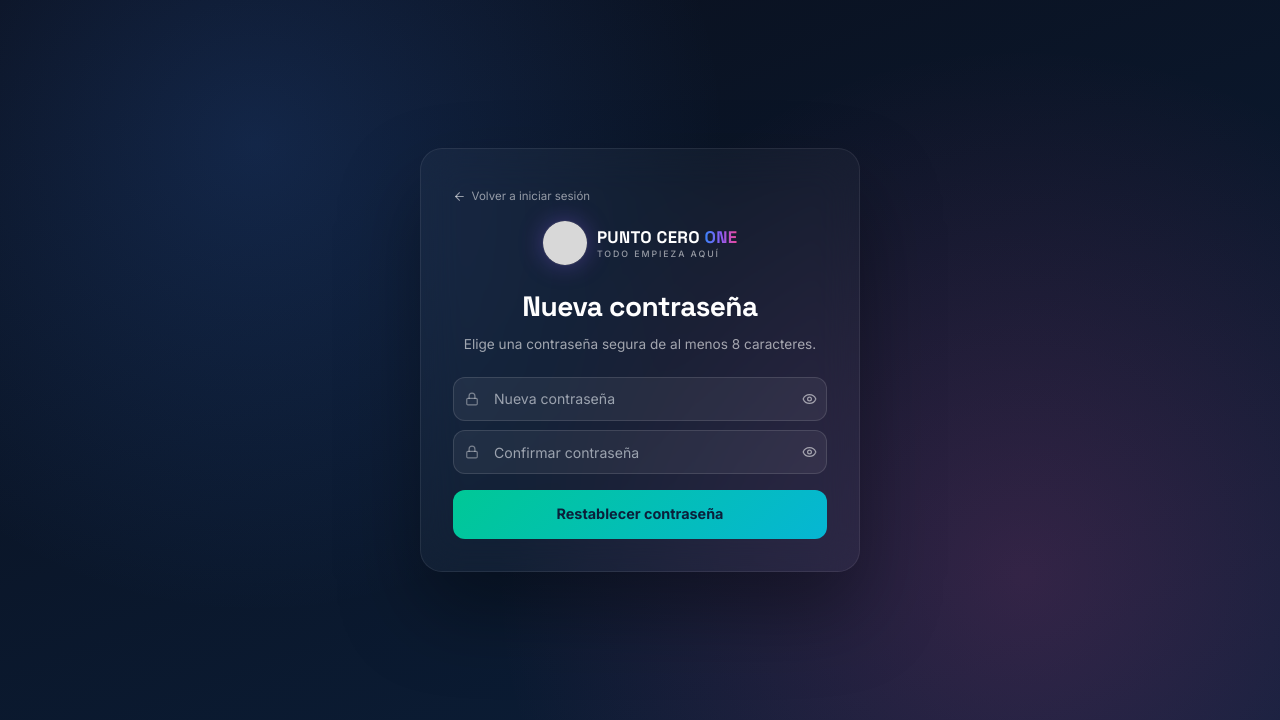
Test: Recuperación · punto de entrada en /login › Recuperación · cambio de contraseña en /reset-password › muestra el error cuando el enlace expiró o ya se usó
Type "nuevaclave1" into the password field with test id "reset-input-password" at (640, 399), box x1=453 y1=377 x2=827 y2=421
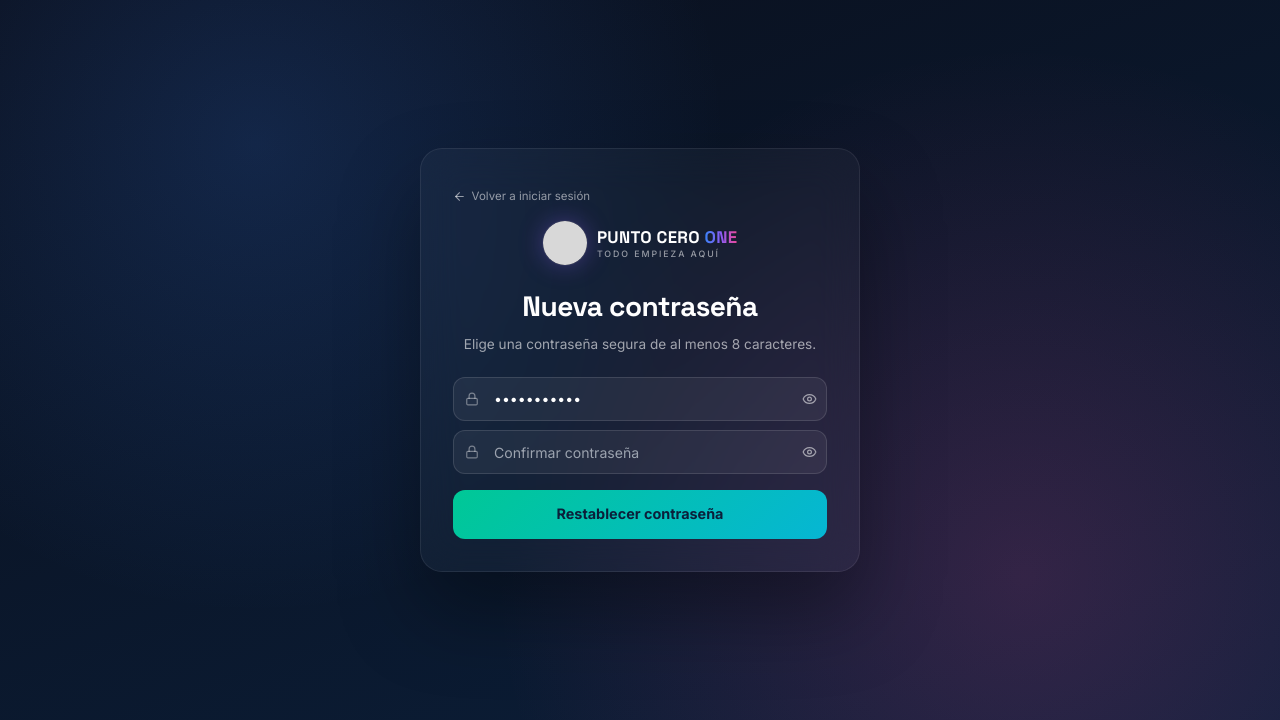
Type "nuevaclave1" into the password field with test id "reset-input-confirm" at (640, 452), box x1=453 y1=430 x2=827 y2=474
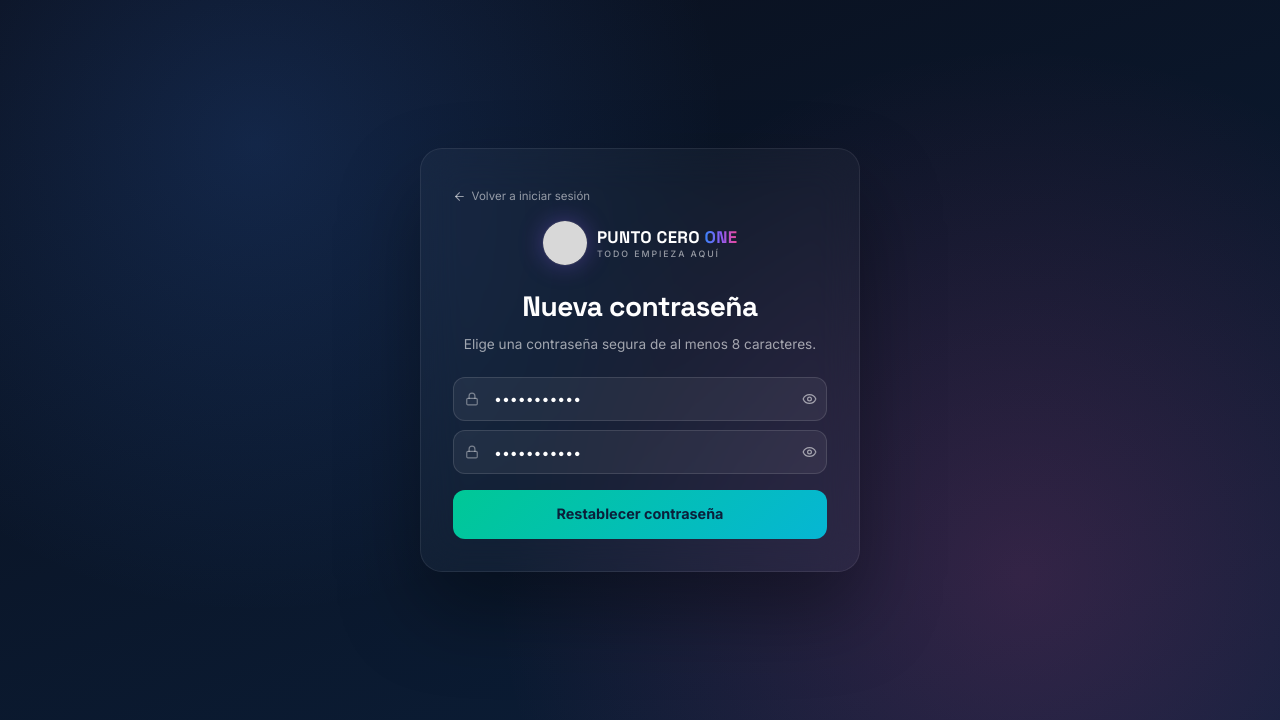
Click the button with test id "reset-submit" at (640, 514), box x1=453 y1=490 x2=827 y2=539
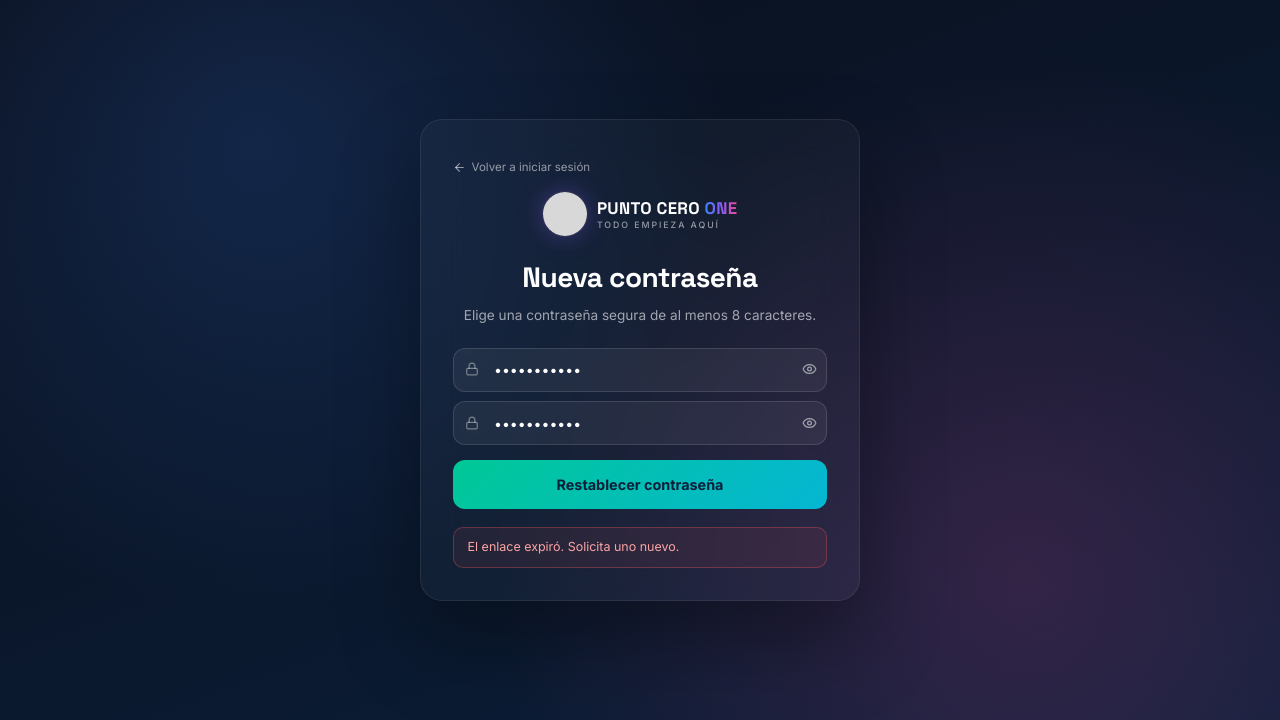
Expected: the text with test id "reset-error" shows "El enlace expiró", x1=468 y1=539 x2=679 y2=554
